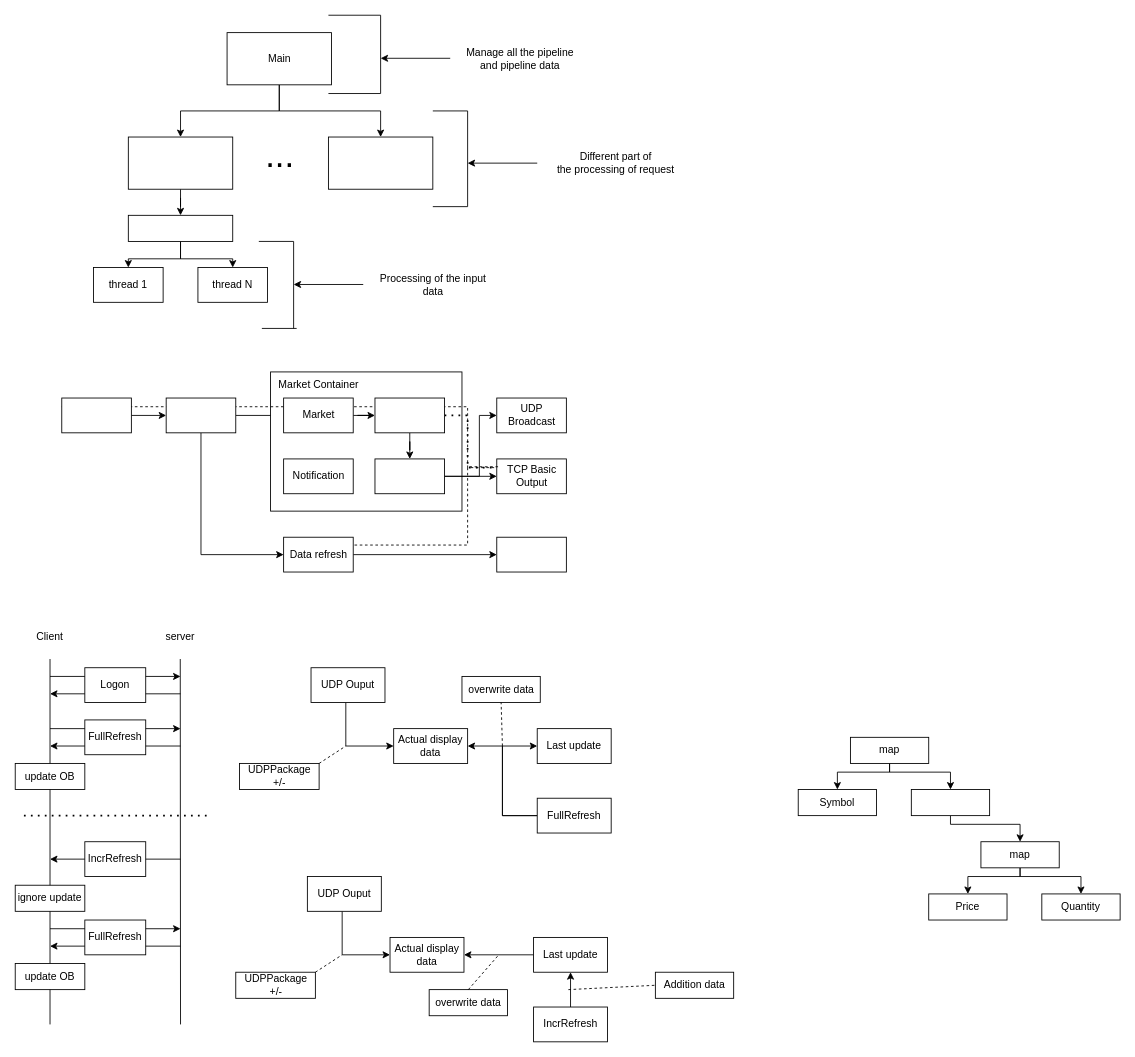
The diagram is 1135 pixels wide and 1057 high, and some of its shapes have lost their labels. Each missing label, with the centre of its shape:
"Action" belongs at [200,415].
"InNetwork" belongs at [96,415].
"OB Event" belongs at [409,476].
"OrderBook" belongs at [409,415].
"Pipeline 0" belongs at [180,162].
"Pipeline N" belongs at [380,162].
"point to OB" belongs at [950,802].
"TCP Refresh Output" belongs at [531,554].
"Thread pool" belongs at [180,227].
